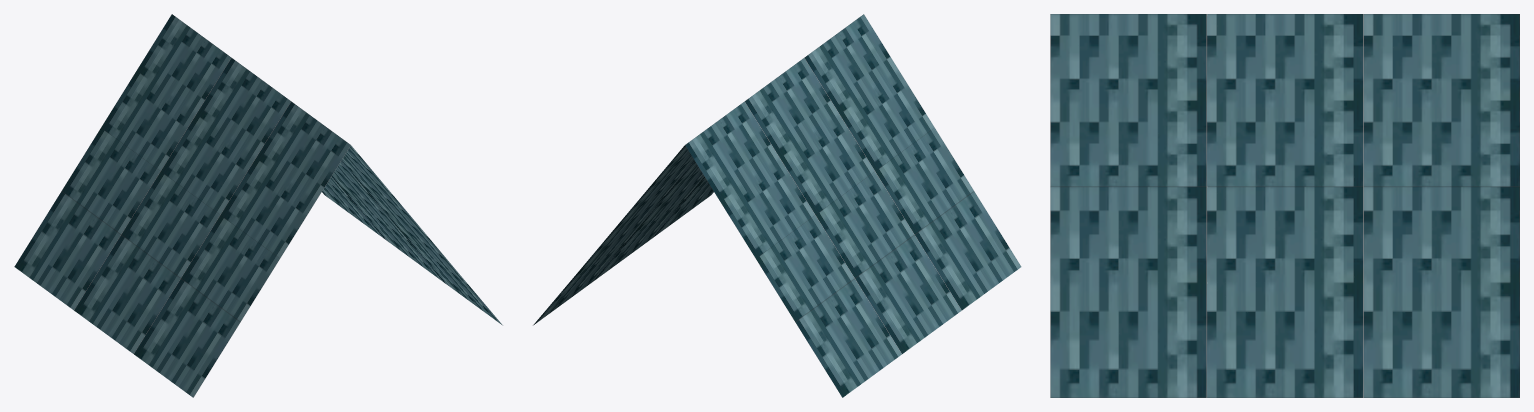
The model's file is Roof_3x3.fbx.
3 renders of one model, left to right at view 1: azimuth 30°, elevation 25°; view 2: azimuth 150°, elevation 25°; view 3: azimuth 270°, elevation 25°, orthographic. The views are drawn at different scales.
Parts seen in each view (by area): view 1: Roof_3x3; view 2: Roof_3x3; view 3: Roof_3x3.
Part boxes in pixels (x1=…): Roof_3x3: x1=14, y1=14, x2=502, y2=397; Roof_3x3: x1=533, y1=14, x2=1021, y2=397; Roof_3x3: x1=1050, y1=14, x2=1519, y2=397.
Bounding box in the file's own units: 300 × 202 × 300.
